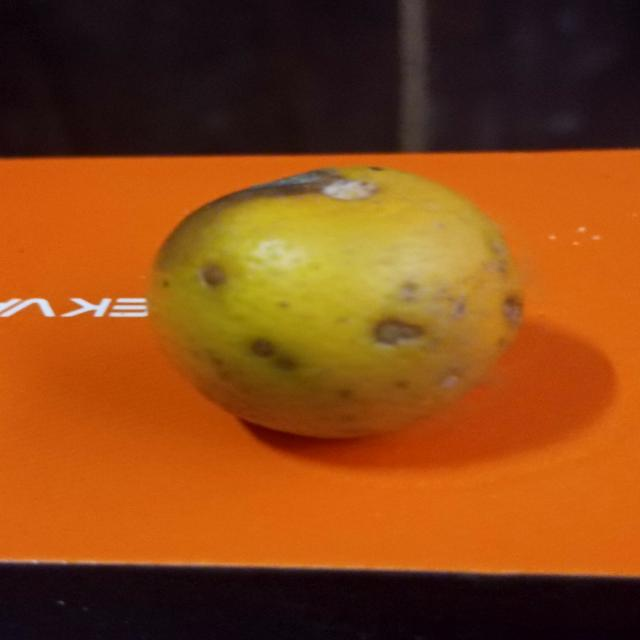black spot: (139, 167, 546, 451)
